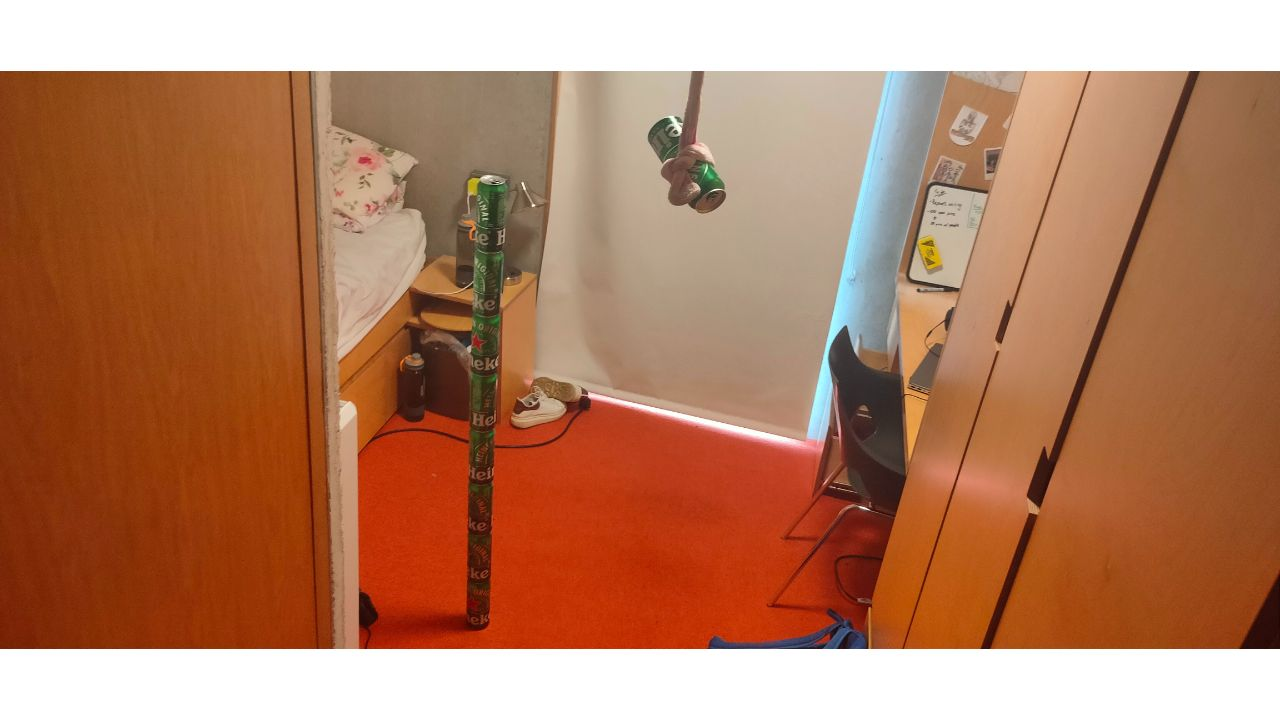Can: (646, 115, 727, 216), (474, 175, 509, 253), (472, 253, 504, 315), (469, 313, 500, 375), (469, 375, 498, 434), (466, 484, 495, 535), (468, 434, 496, 483), (466, 533, 491, 585), (466, 584, 491, 628)
